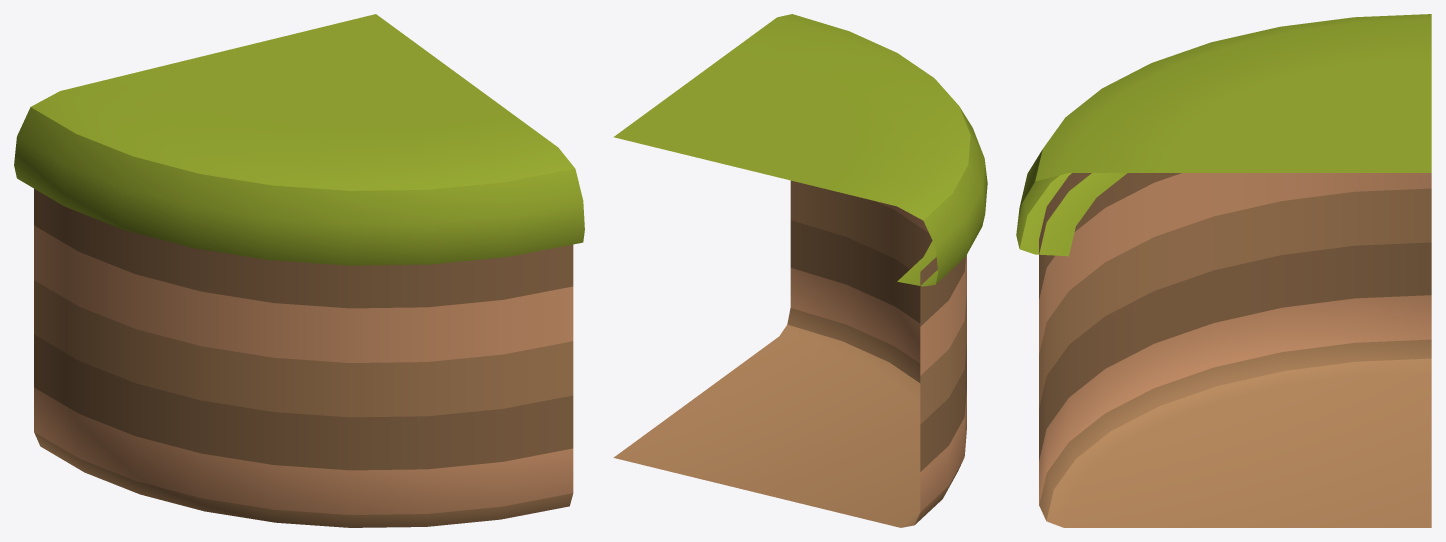
File: platform_grass_corner_round.gltf
The picture shows the model from 3 angles, left to right: view 1: azimuth 30°, elevation 25°; view 2: azimuth 150°, elevation 25°; view 3: azimuth 270°, elevation 25°; orthographic projection. The views are drawn at different scales.
Parts seen in each view (by area): view 1: Cube_Grass_Corner_Round; view 2: Cube_Grass_Corner_Round; view 3: Cube_Grass_Corner_Round.
Boxes of the visible parts, bbox=[...] form: Cube_Grass_Corner_Round: bbox=[14, 14, 584, 527]; Cube_Grass_Corner_Round: bbox=[613, 14, 987, 527]; Cube_Grass_Corner_Round: bbox=[1016, 14, 1431, 527].
Bounding box in the file's own units: 2.12 × 2 × 2.12.
